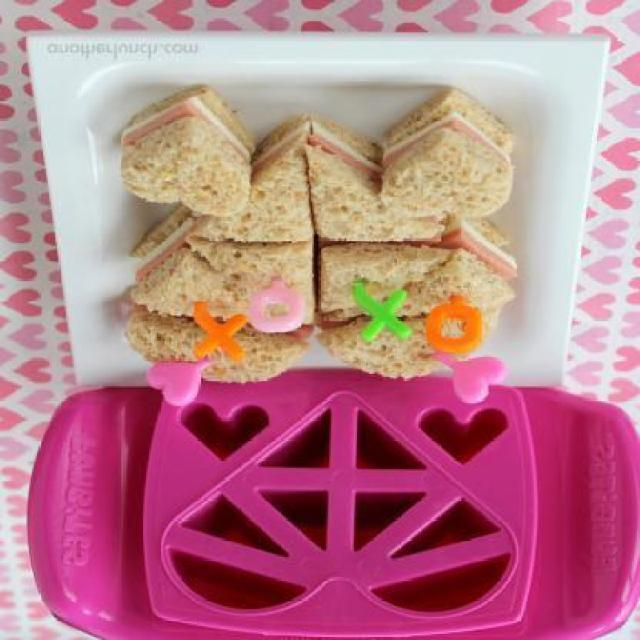Sandwich: (119, 83, 522, 384)
